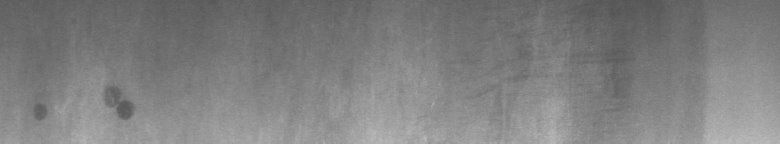fi: (34, 84, 136, 124)
